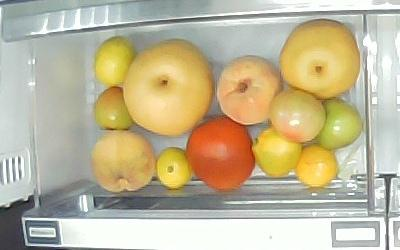peach: (216, 55, 286, 126), (90, 130, 156, 193)
pear: (122, 40, 215, 137), (279, 20, 361, 101)
tangerine: (252, 127, 303, 178), (94, 36, 137, 87), (295, 144, 338, 188), (155, 147, 190, 189)
tomato: (186, 117, 257, 192), (270, 89, 326, 145), (316, 99, 363, 150), (93, 86, 133, 130)
